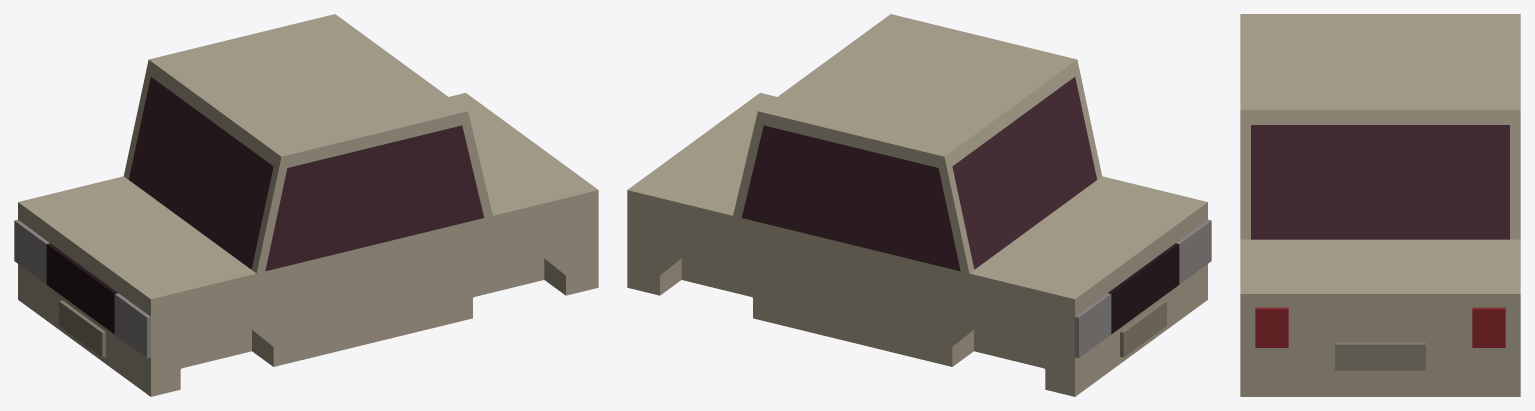
File: Sedan_White.fbx
3 views of the same model, side by side, from view 1: azimuth 30°, elevation 25°; view 2: azimuth 150°, elevation 25°; view 3: azimuth 270°, elevation 25° (orthographic). The views are drawn at different scales.
Visible parts, largest first — view 1: Sedan_White, Sedan_Lights; view 2: Sedan_White, Sedan_Lights; view 3: Sedan_White, Sedan_Lights.
Part boxes in pixels (x1,y1,x2,y2): Sedan_White: [18, 14, 598, 396]; Sedan_Lights: [14, 219, 150, 358]; Sedan_White: [627, 14, 1207, 396]; Sedan_Lights: [1075, 219, 1211, 358]; Sedan_White: [1240, 14, 1520, 396]; Sedan_Lights: [1255, 307, 1505, 347].
Bounding box in the file's own units: 3.66 × 1.6 × 1.85.
